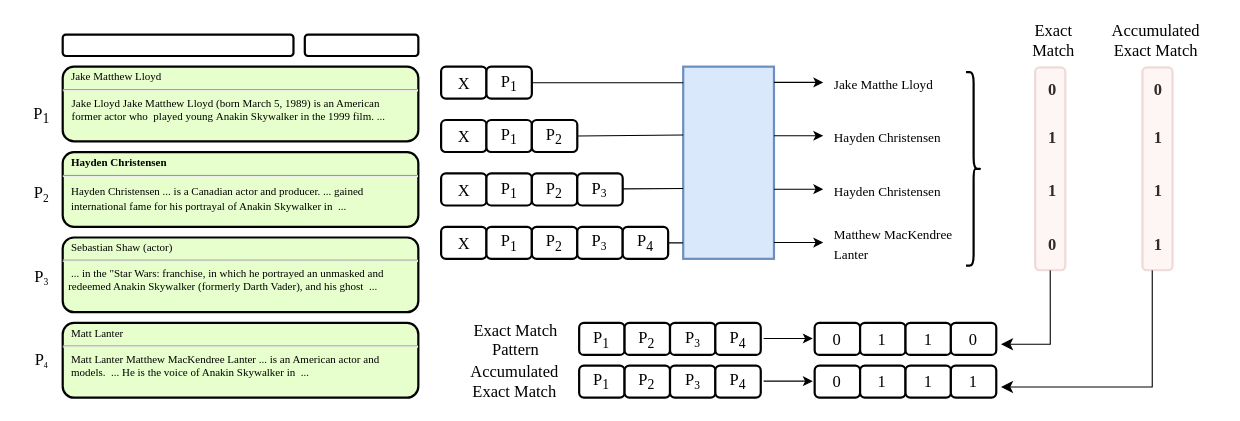
This 1240x421 diagram has some shape labels left out. The shapes that lost their labels are listed below. From the top down, each one's centre as x and y in pixels, then its label:
At [177,45]: "x : who is the actor that plays anakin skywalker".
At [361,45]: "y : Hayden Christensen".
At [728,162]: "Fusion in Decoder".
